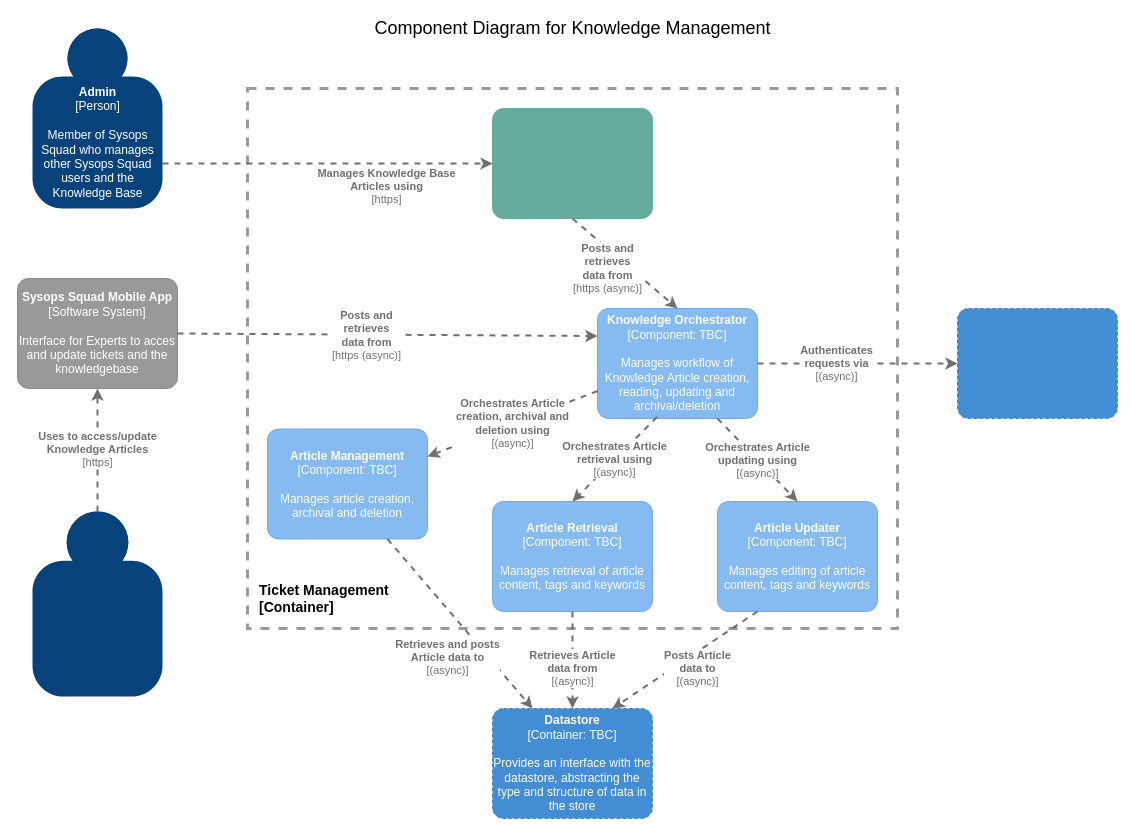
Some shapes in this 1135 by 836 pixel diagram are drawn without their labels. The shapes that lost their labels are listed below. From the top down, each one's centre as x and y in pixels, then its label:
At point (572, 163): "Knowledge UI [Component: TBC] User interface for Knowledge Management".
At point (1037, 363): "Authentication [Container: TBC] Manages authentication within the system".
At point (97, 603): "Expert [Person] Member of Sysops Squad who acts on tickets".
